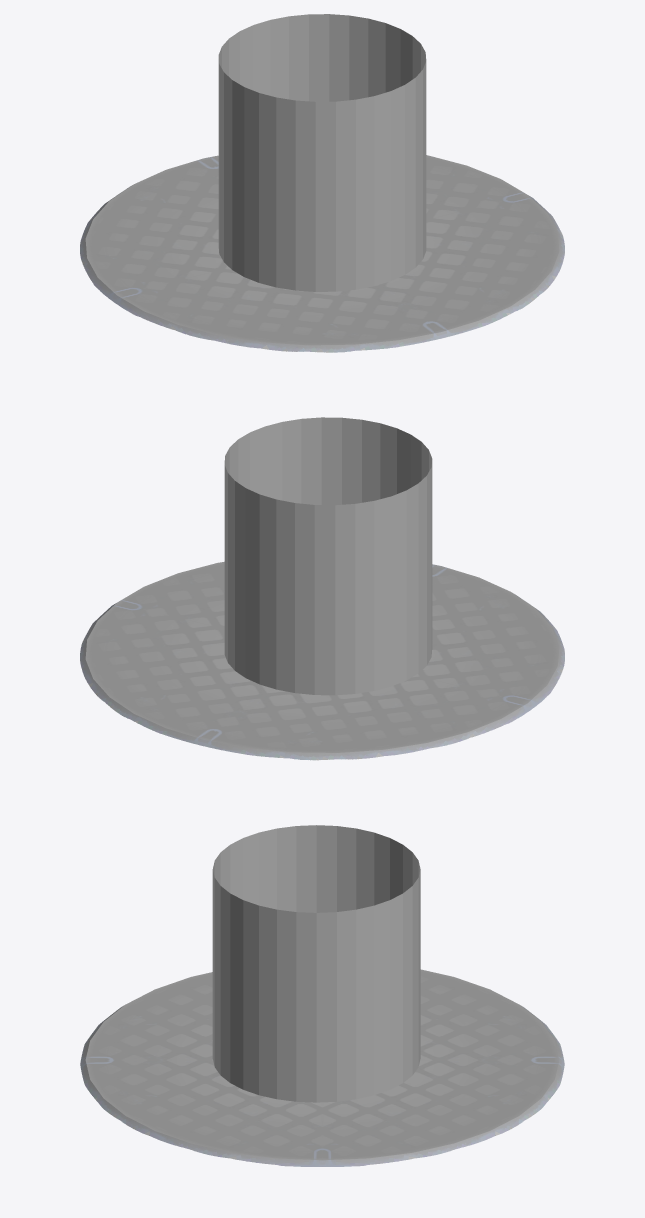
Rendered from pref_TPC_v2_NeutralScoreArea03_winter_purple_born_lv3.fbx.
The picture shows the model from 3 angles, top to bottom: view 1: azimuth 30°, elevation 25°; view 2: azimuth 150°, elevation 25°; view 3: azimuth 270°, elevation 25°; orthographic projection.
Visible parts, largest first — view 1: sm_fx_scorearea03_mesh_01_gp, sm_prop_platform06a_lv3; view 2: sm_fx_scorearea03_mesh_01_gp, sm_prop_platform06a_lv3; view 3: sm_fx_scorearea03_mesh_01_gp, sm_prop_platform06a_lv3.
Boxes of the visible parts, x1,y1,x2,y2 form: sm_fx_scorearea03_mesh_01_gp: (218,14,426,291); sm_prop_platform06a_lv3: (80,155,564,352); sm_fx_scorearea03_mesh_01_gp: (224,417,432,695); sm_prop_platform06a_lv3: (80,561,564,760); sm_fx_scorearea03_mesh_01_gp: (212,825,420,1102); sm_prop_platform06a_lv3: (80,969,564,1166).
Bounding box in the file's own units: 7.46 × 3.07 × 7.46.
